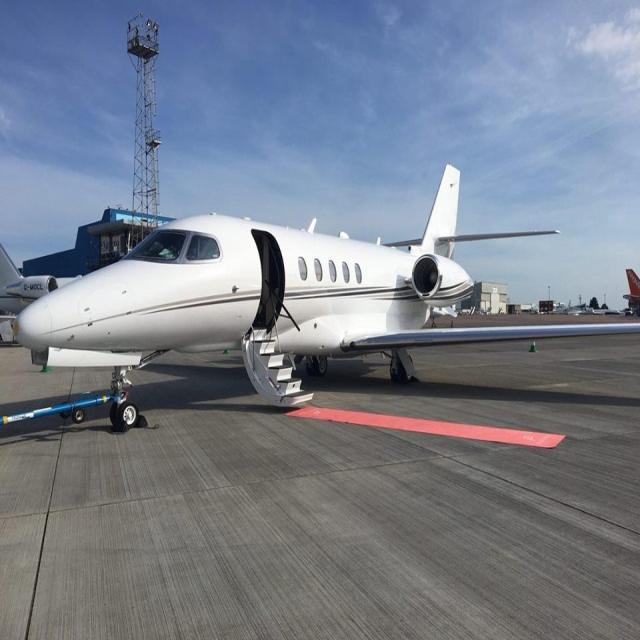jet: (0, 121, 605, 476)
